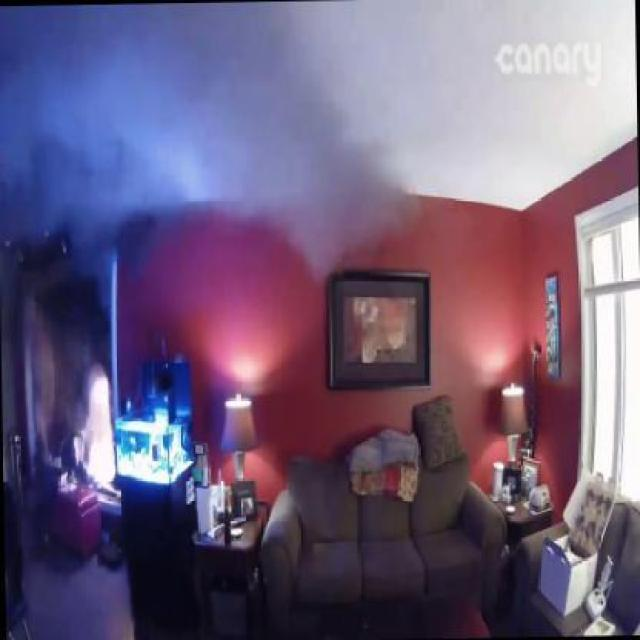fire: (0, 5, 422, 284)
